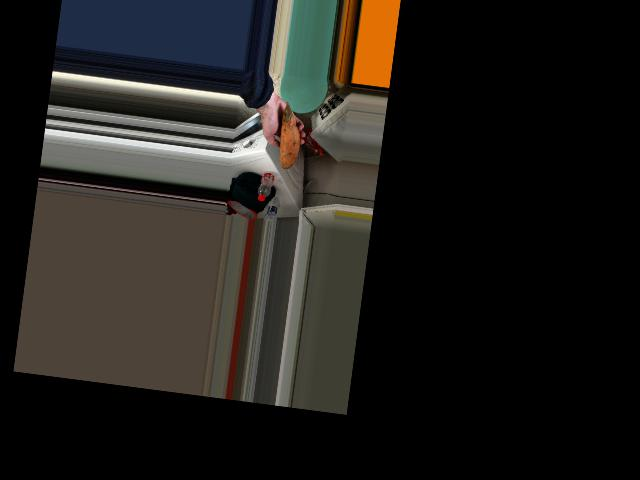sweet_potato: (276, 106, 304, 164)
